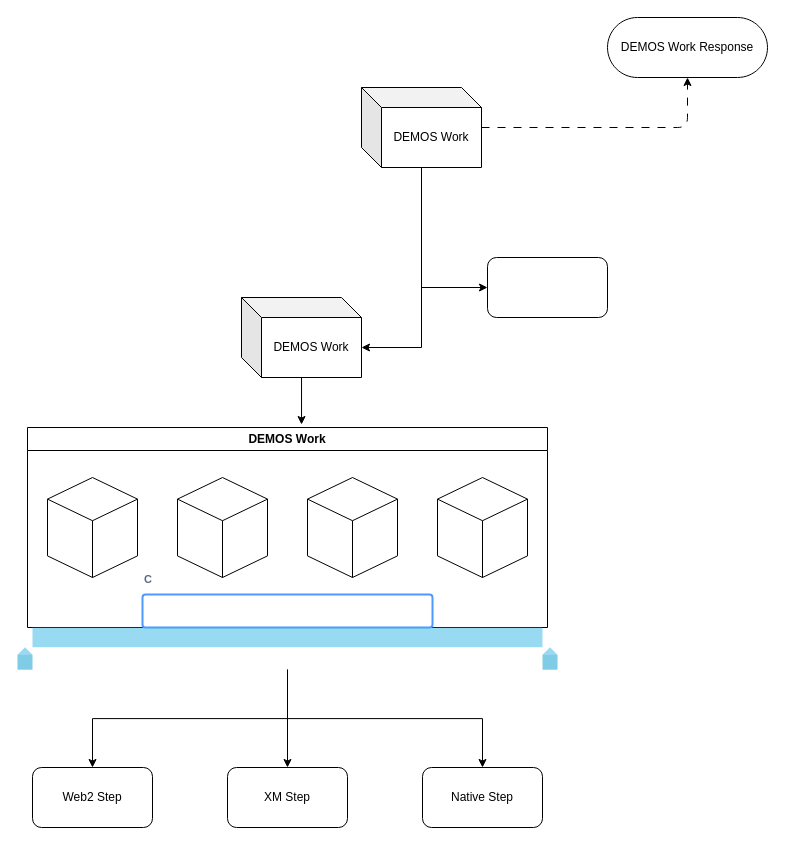
Image size: 785x845. Some labels were removed from this diagram. The shapes that lost their labels are listed below. From the top down, each one's box as (x1, y1, x2, y2) in pixels, then its label:
(486, 256, 608, 318): Signature & Hash
(141, 593, 433, 628): List of DEMOS Work Steps
(16, 626, 558, 670): Each DEMOS Work Step can be
